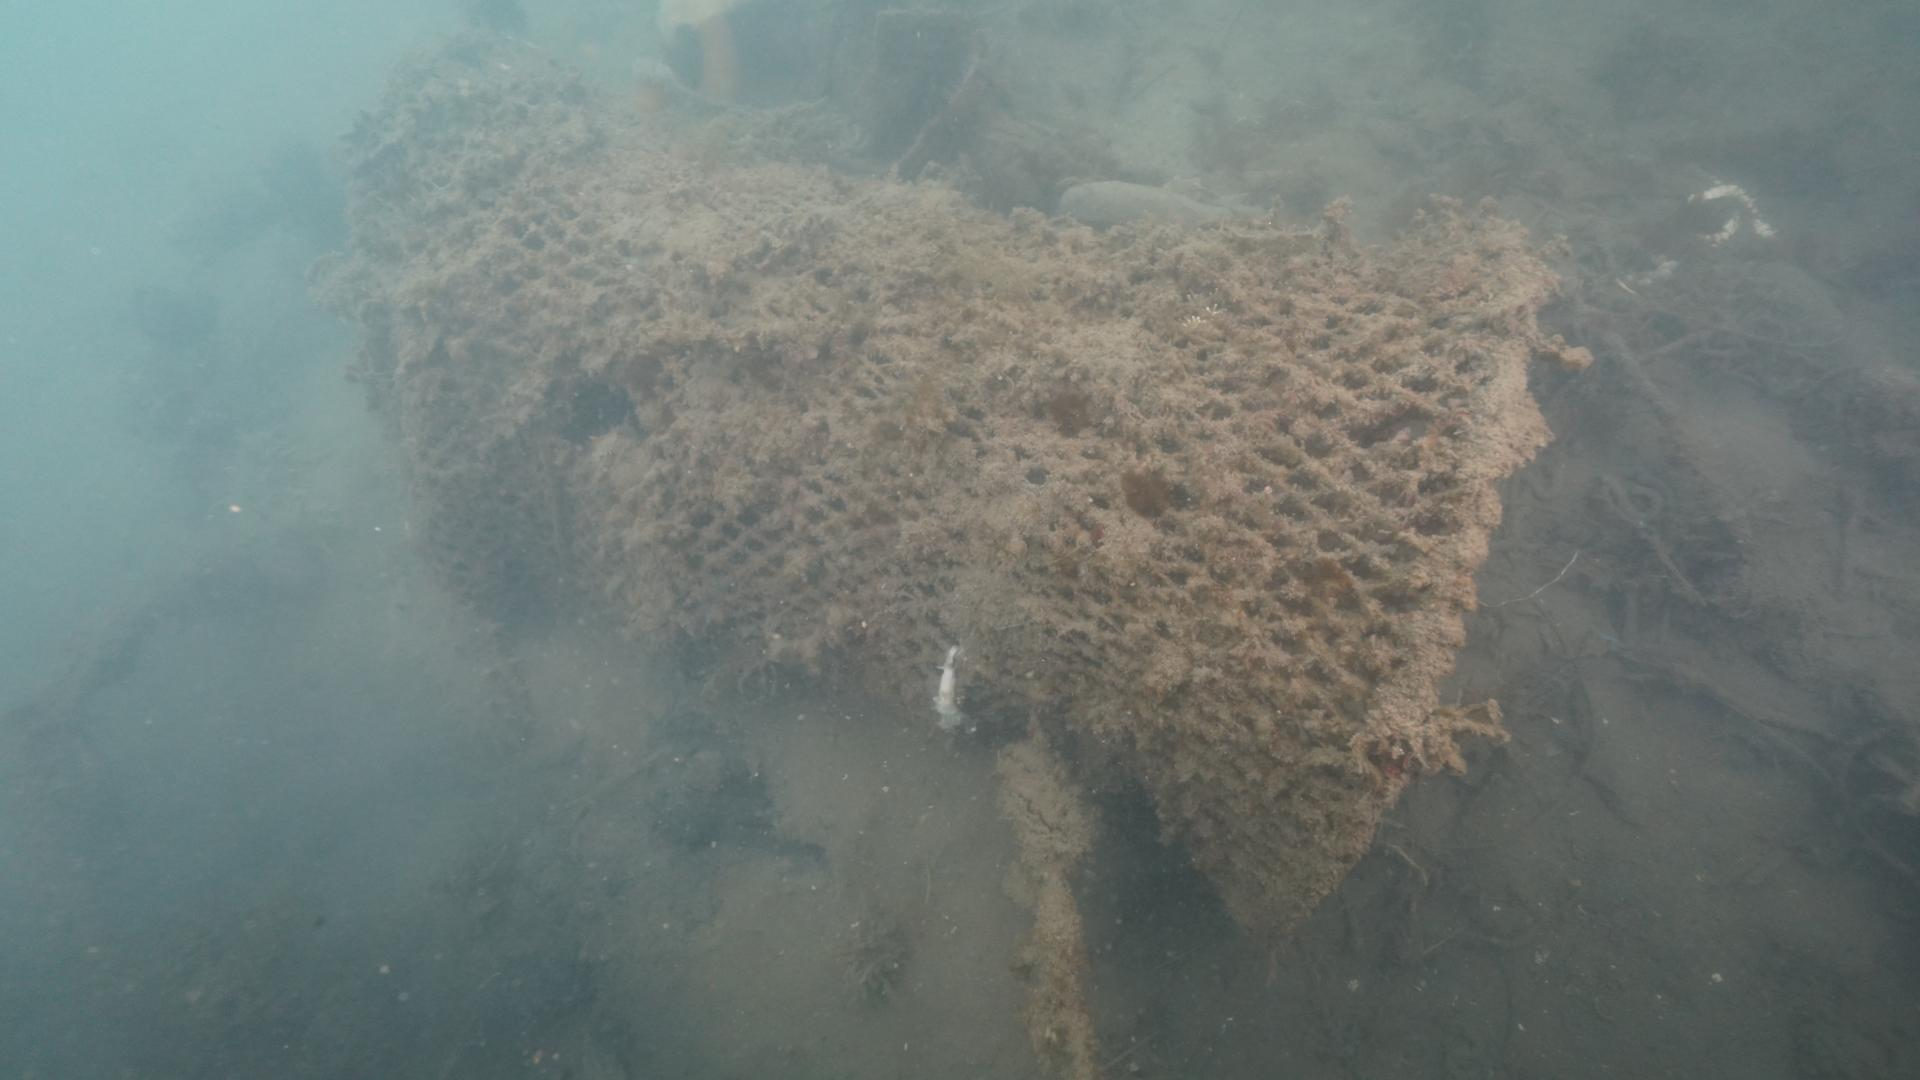spring fish trap: (328, 20, 1547, 949)
